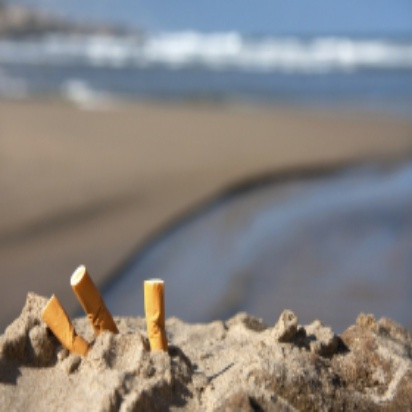cigarette: (65, 260, 119, 339), (40, 288, 91, 359), (142, 276, 172, 357)
